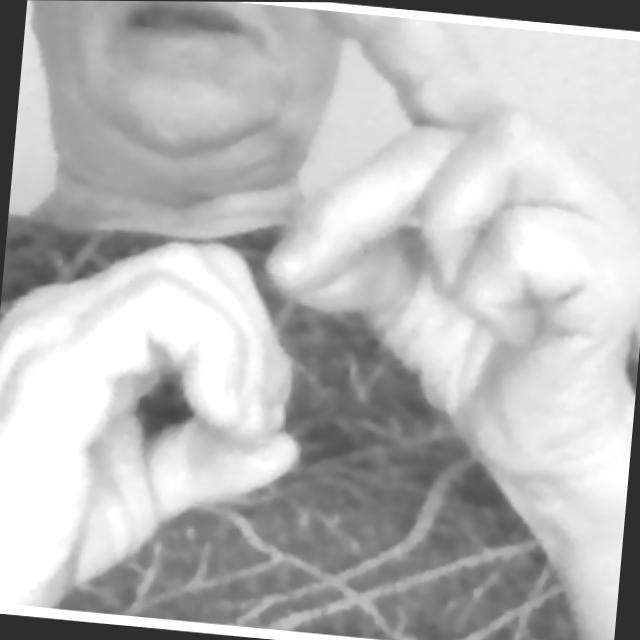O--: (0, 0, 640, 638)
